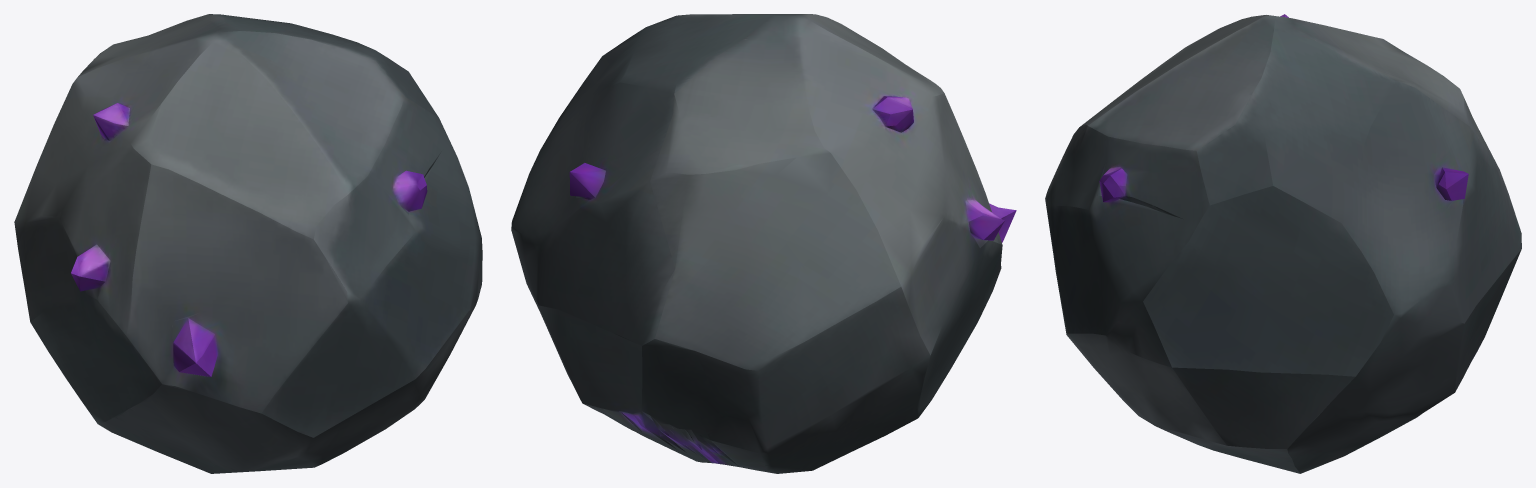
File: m2CaveBoulder.glb
3 views of the same model, side by side, from view 1: azimuth 30°, elevation 25°; view 2: azimuth 150°, elevation 25°; view 3: azimuth 270°, elevation 25° (orthographic). The views are drawn at different scales.
Visible parts, largest first — view 1: model; view 2: model; view 3: model.
Boxes of the visible parts, x1,y1,x2,y2 form: model: (14, 14, 482, 473); model: (511, 14, 1016, 473); model: (1045, 14, 1521, 473).
Bounding box in the file's own units: 1.75 × 1.83 × 1.89.
1 material, 1 textured.
